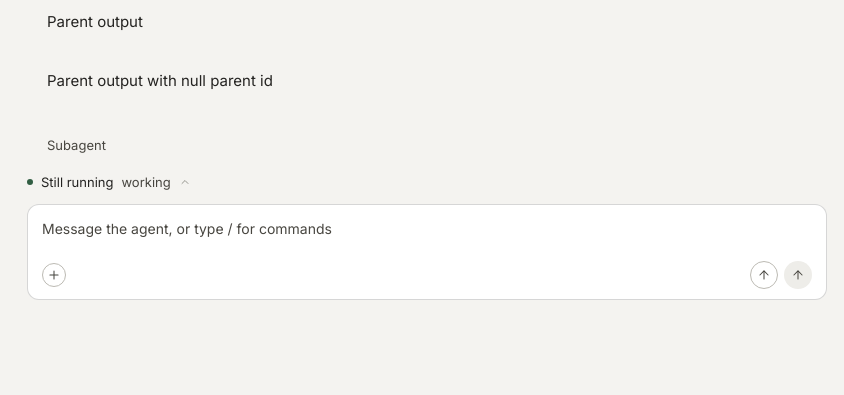
Scenario: AgentChatSurface › keeps a child's transcript items out of the parent chat and still lists the child
Click the heading "Subagent". click: [76, 145]
box: left=47, top=137, right=106, bottom=153
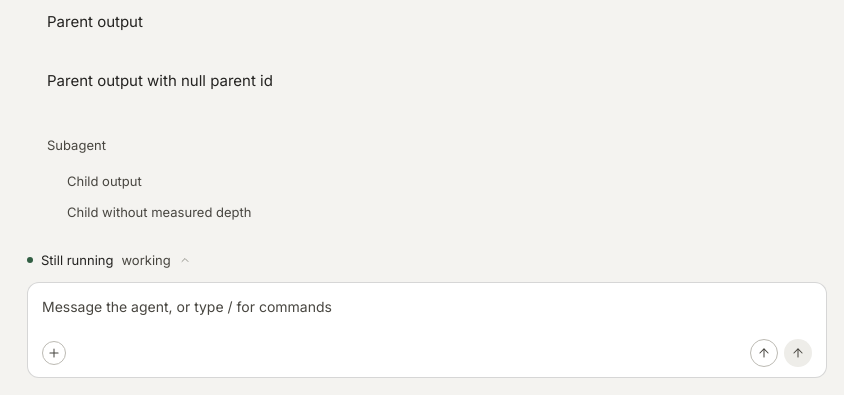
Result: the element with class "workspace-chat-subagent-text" shows "Child output" at left=67, top=173, right=142, bottom=189
Click the button with test id "who-is-working". click: [109, 260]
box: left=19, top=246, right=199, bottom=274
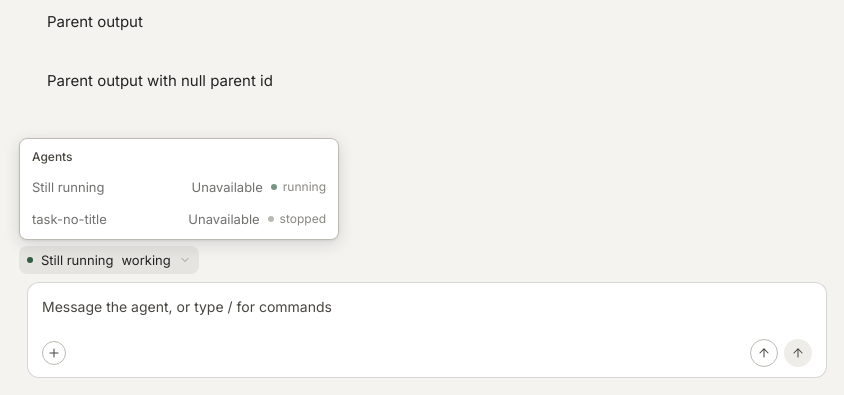
Result: the element with class "workspace-subagent-list" shows "task-no-title" at left=24, top=203, right=334, bottom=235
